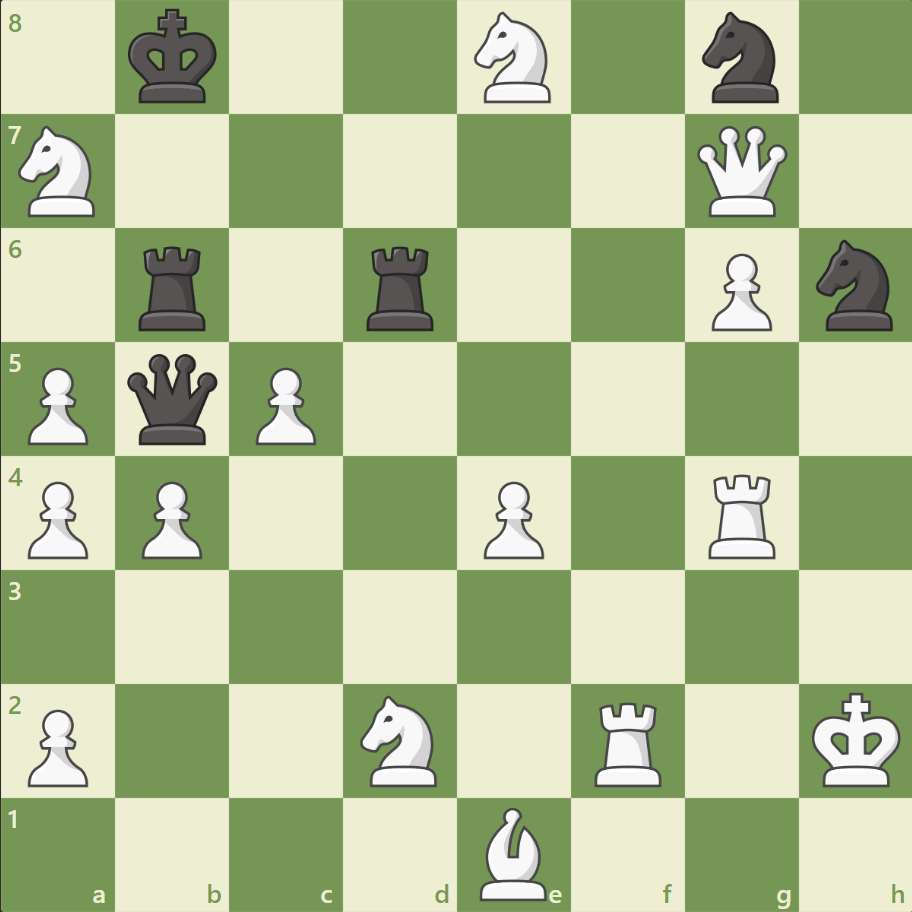B: (471, 801, 555, 904)
K: (806, 685, 906, 793)
N: (351, 688, 449, 791), (465, 7, 562, 110), (11, 121, 108, 223)
P: (701, 246, 776, 337), (20, 359, 95, 450), (247, 359, 322, 450), (20, 473, 95, 564), (133, 473, 208, 564), (474, 473, 549, 564), (20, 700, 95, 791)
Q: (691, 122, 790, 222)
R: (700, 466, 783, 563), (587, 693, 670, 790)
k: (124, 4, 224, 112)
n: (692, 7, 789, 110), (806, 234, 903, 337)
q: (124, 349, 223, 449)
r: (133, 239, 215, 336), (360, 239, 442, 336)
